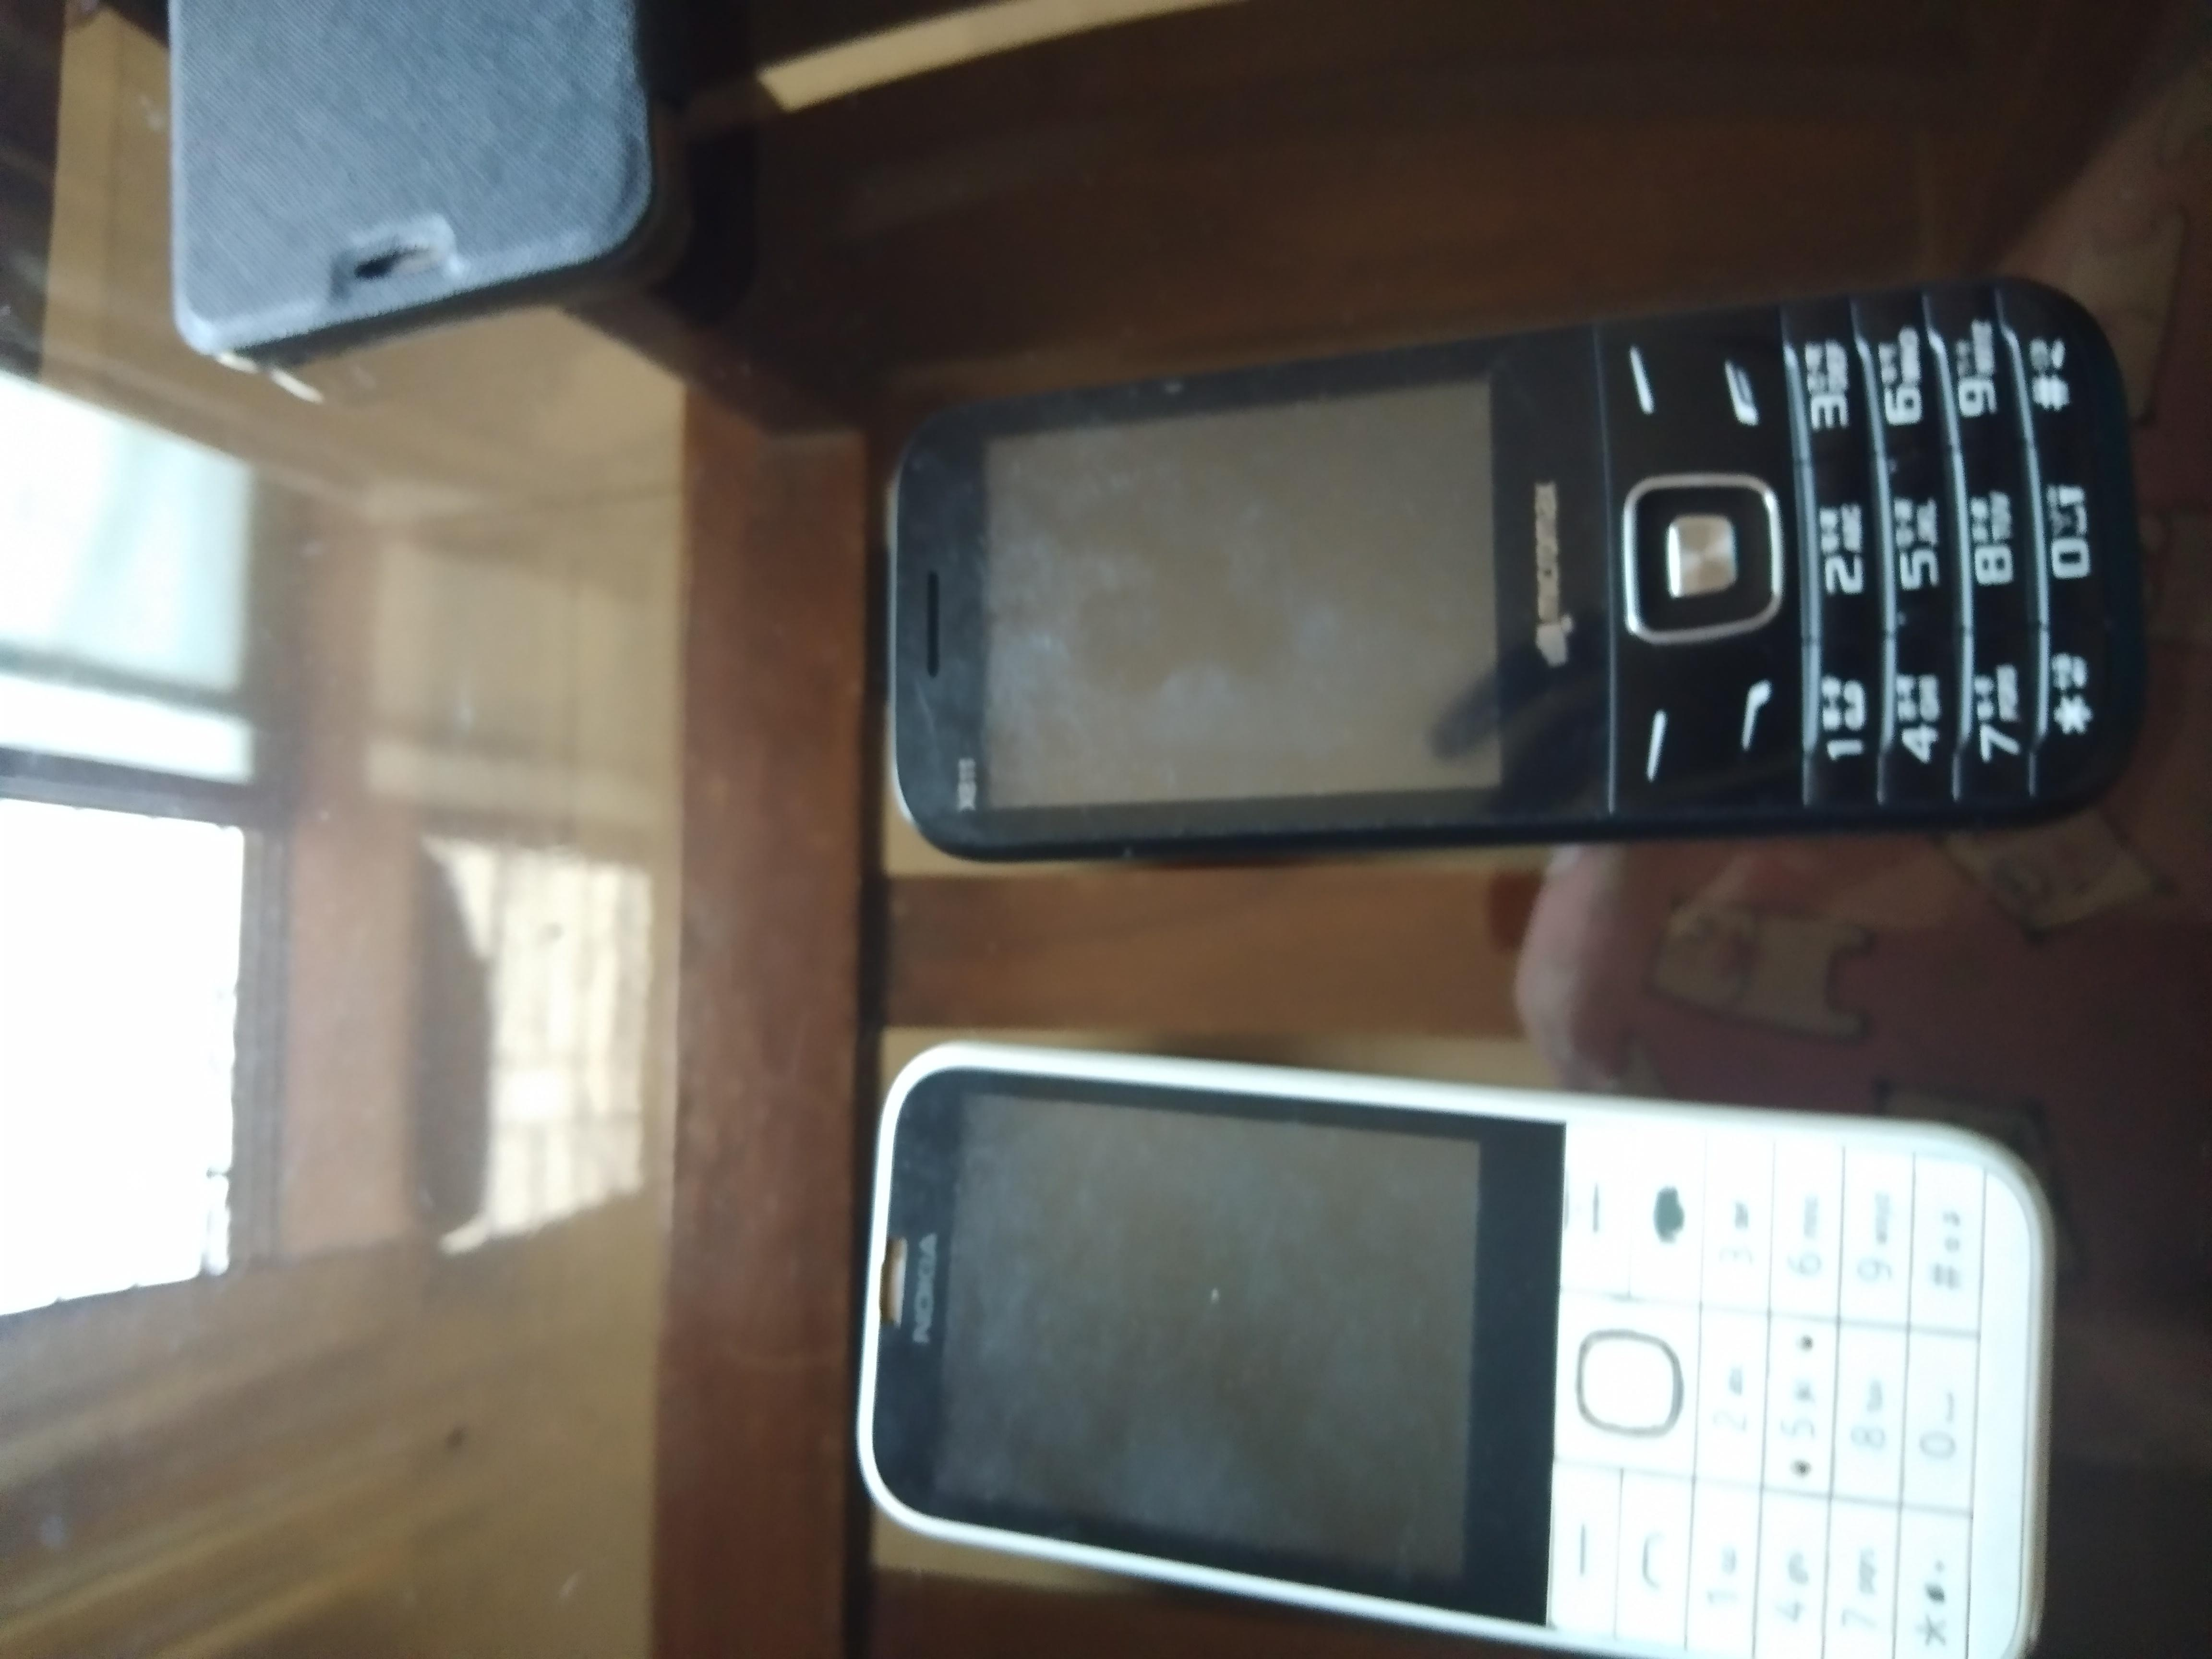Phone: (836, 256, 2209, 899), (827, 1000, 2114, 1659)
